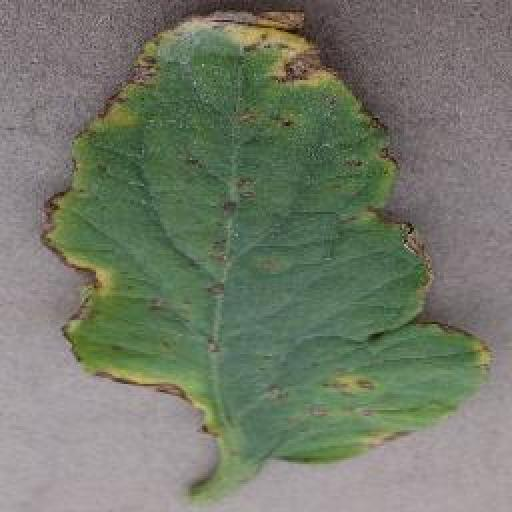Bacterial Spot: (40, 0, 491, 468)
